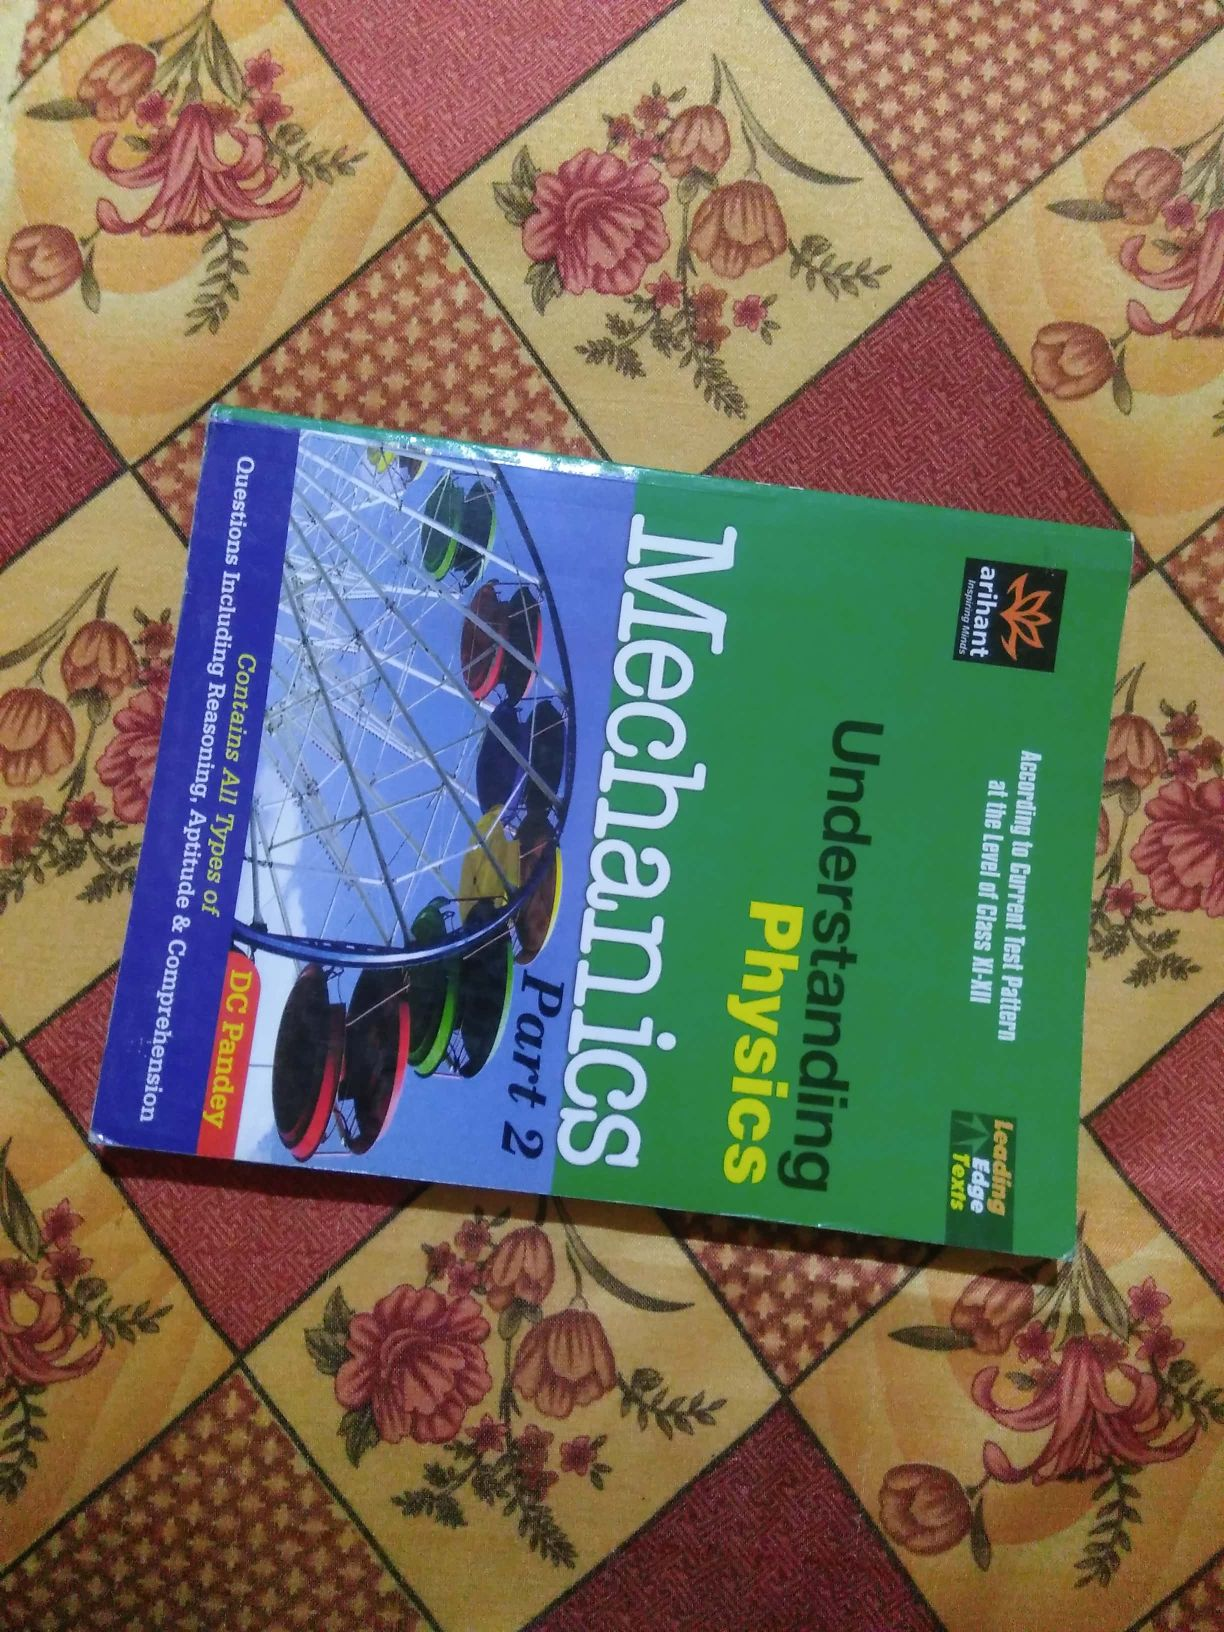mechanics: (100, 377, 1171, 1285)
